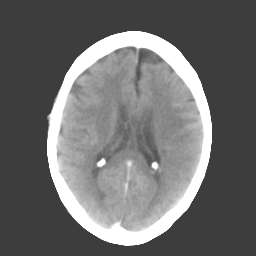ischemic: (157, 96, 195, 198)
